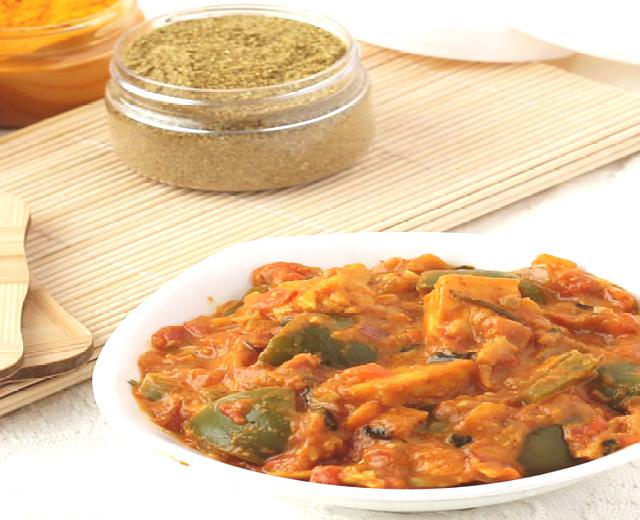kadai paneer: (91, 229, 636, 513), (104, 4, 371, 192), (26, 181, 327, 306), (380, 67, 585, 178), (474, 134, 636, 252), (0, 416, 182, 516), (2, 1, 144, 126), (32, 228, 168, 326), (7, 285, 94, 377), (0, 355, 96, 424), (222, 479, 354, 518), (564, 50, 638, 95)
